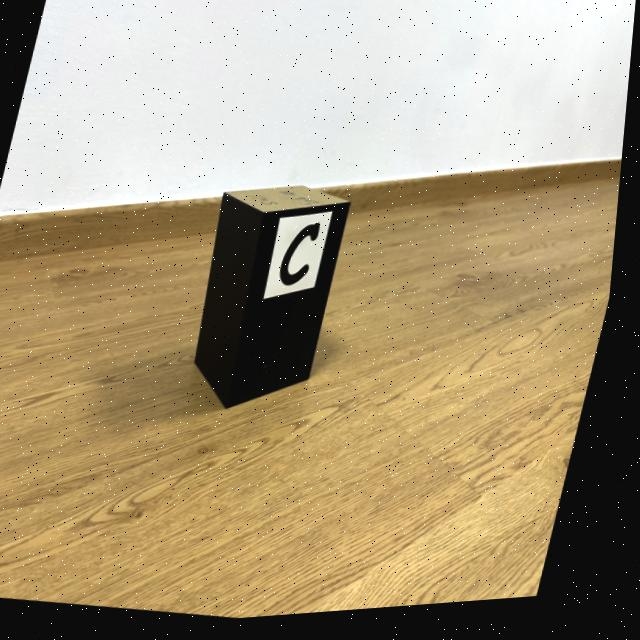C: (285, 227, 325, 291)
